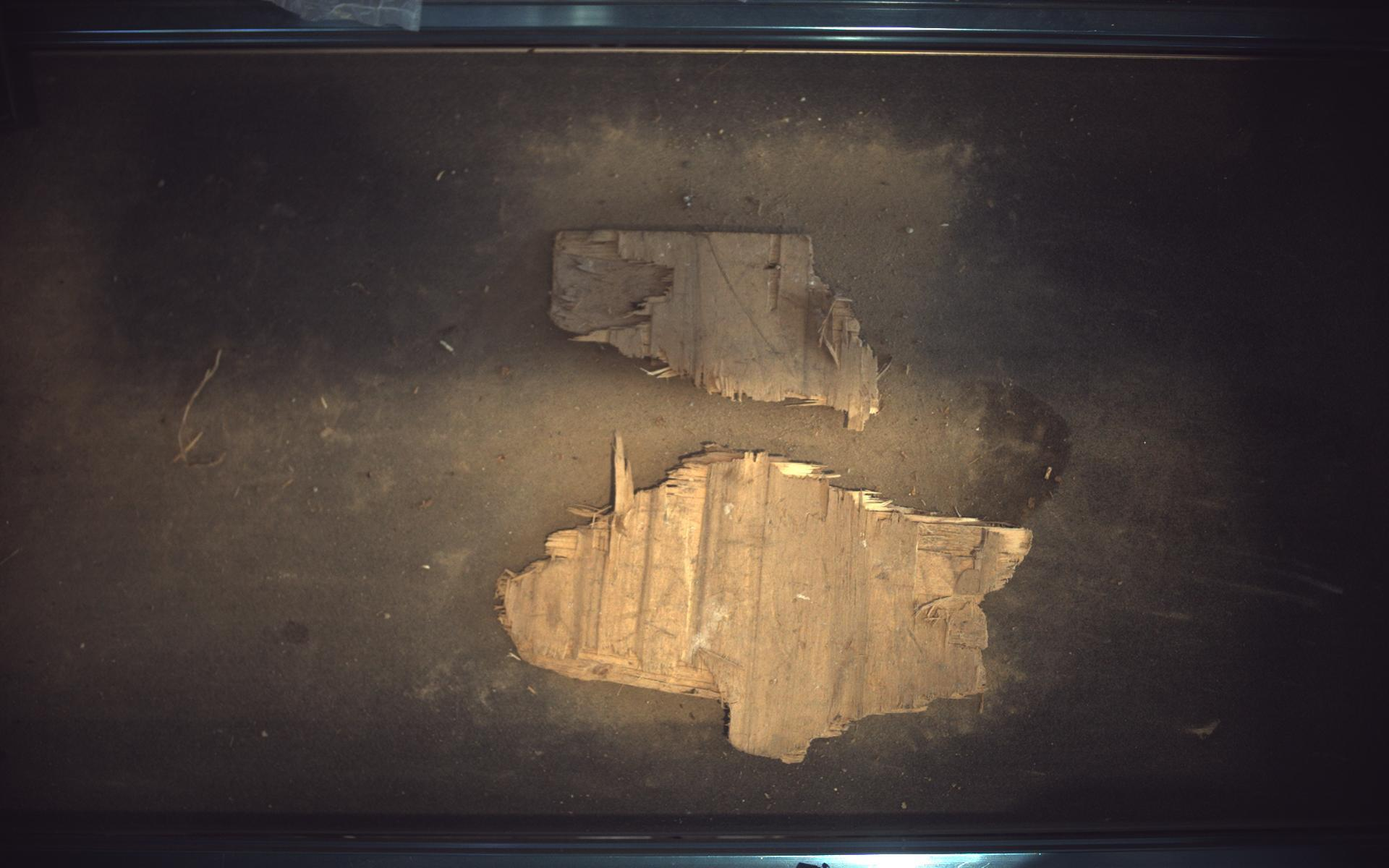wood: (496, 436, 1034, 764), (550, 229, 885, 430)
